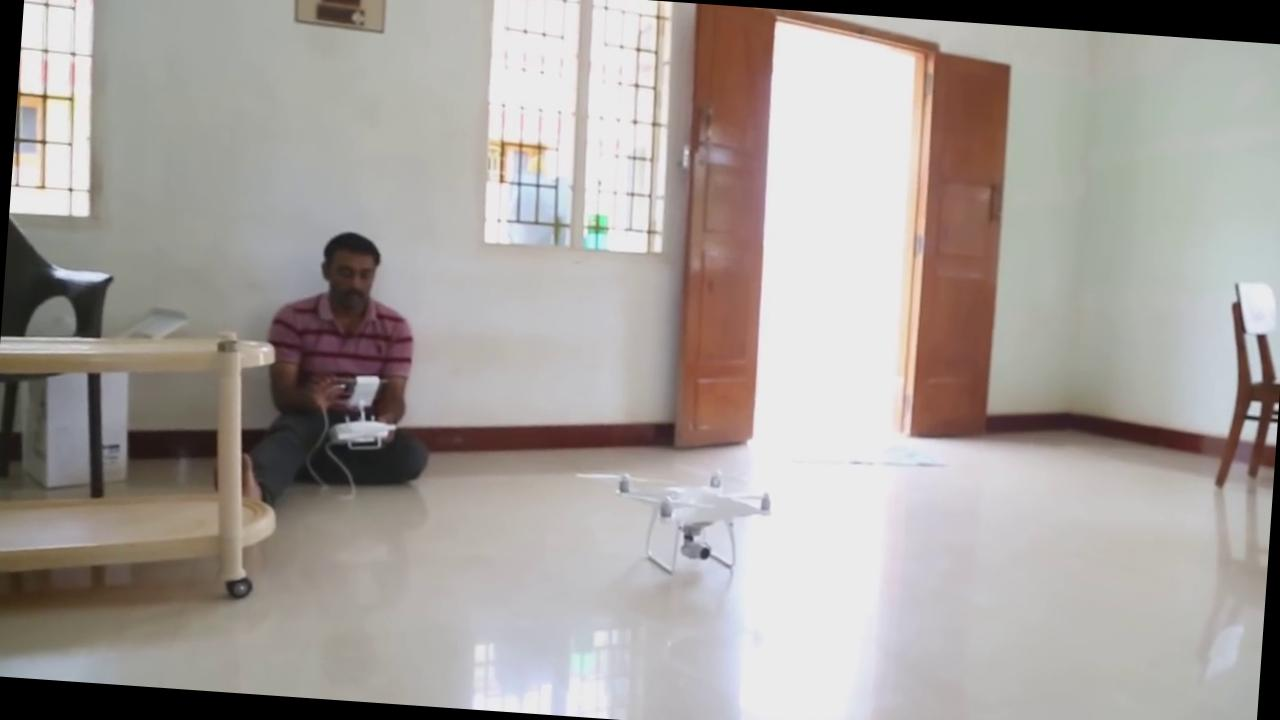drone: (569, 446, 808, 602)
